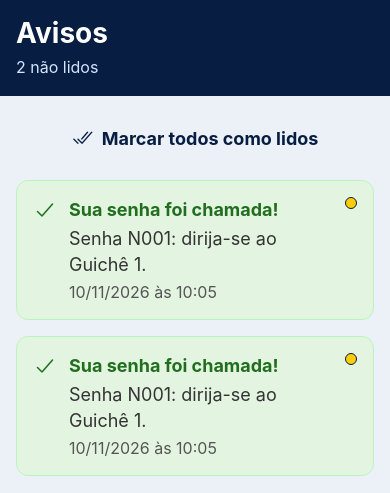
it: Avisos (RF10) › "marcar todos como lidos" e lista atualizada
Click the button "Marcar todos como lidos" at (195, 138), box x1=16 y1=112 x2=374 y2=164
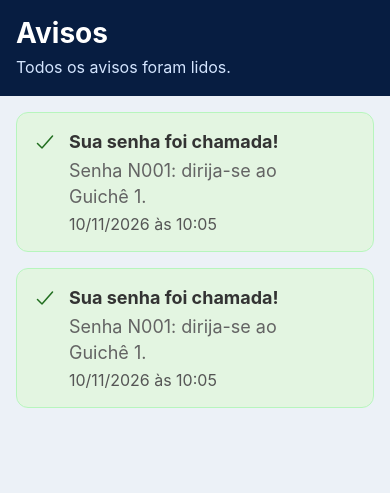
Check: the text "Todos os avisos foram lidos." is shown, box x1=16 y1=57 x2=231 y2=77
